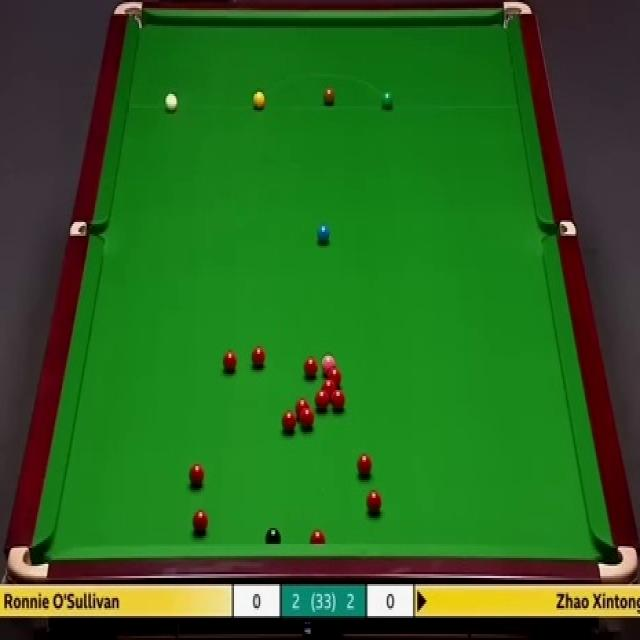black-ball: (266, 528, 282, 544)
blue-ball: (316, 225, 331, 242)
brown-ball: (324, 88, 335, 106)
green-ball: (380, 88, 395, 110)
pink-ball: (321, 354, 336, 374)
red-ball: (356, 452, 373, 477), (192, 511, 209, 534), (325, 366, 342, 389), (367, 490, 382, 514), (301, 358, 319, 378), (281, 409, 296, 433), (251, 343, 266, 366), (188, 464, 205, 484), (222, 352, 238, 372), (331, 388, 346, 408), (296, 398, 309, 418), (301, 408, 314, 428), (309, 529, 327, 543), (316, 389, 328, 408)
white-ball: (165, 92, 178, 110)
yellow-ball: (253, 90, 265, 110)
